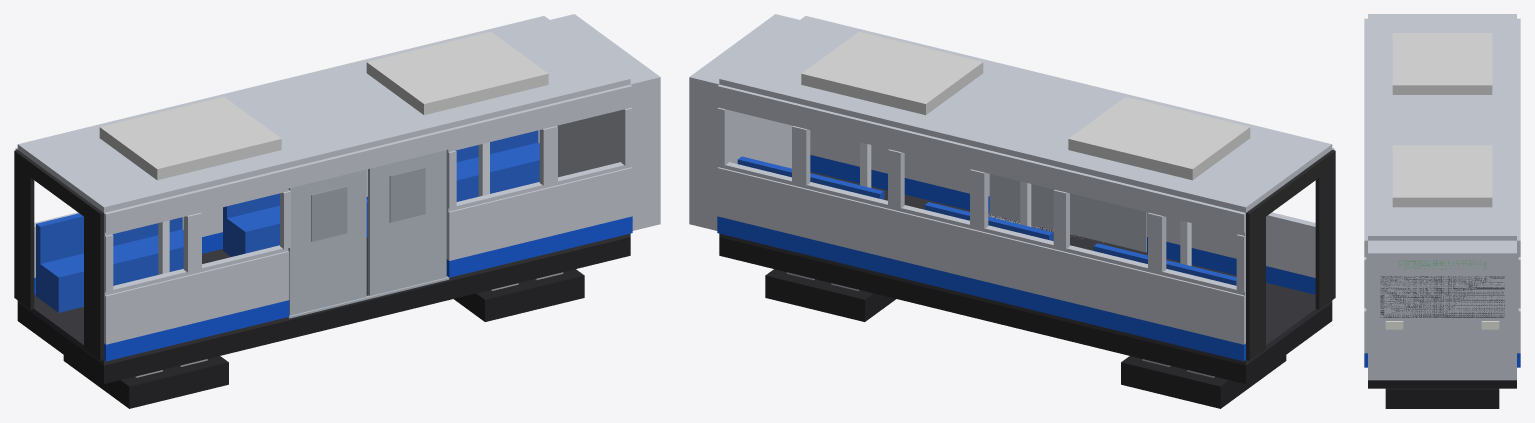
Rendered from metro_wagon_lead_closed_l1.obj.
3 views of the same model, side by side, from view 1: azimuth 30°, elevation 25°; view 2: azimuth 150°, elevation 25°; view 3: azimuth 270°, elevation 25° (orthographic). The views are drawn at different scales.
Size of the model in its own units: 3.16 by 1.26 by 0.88.
